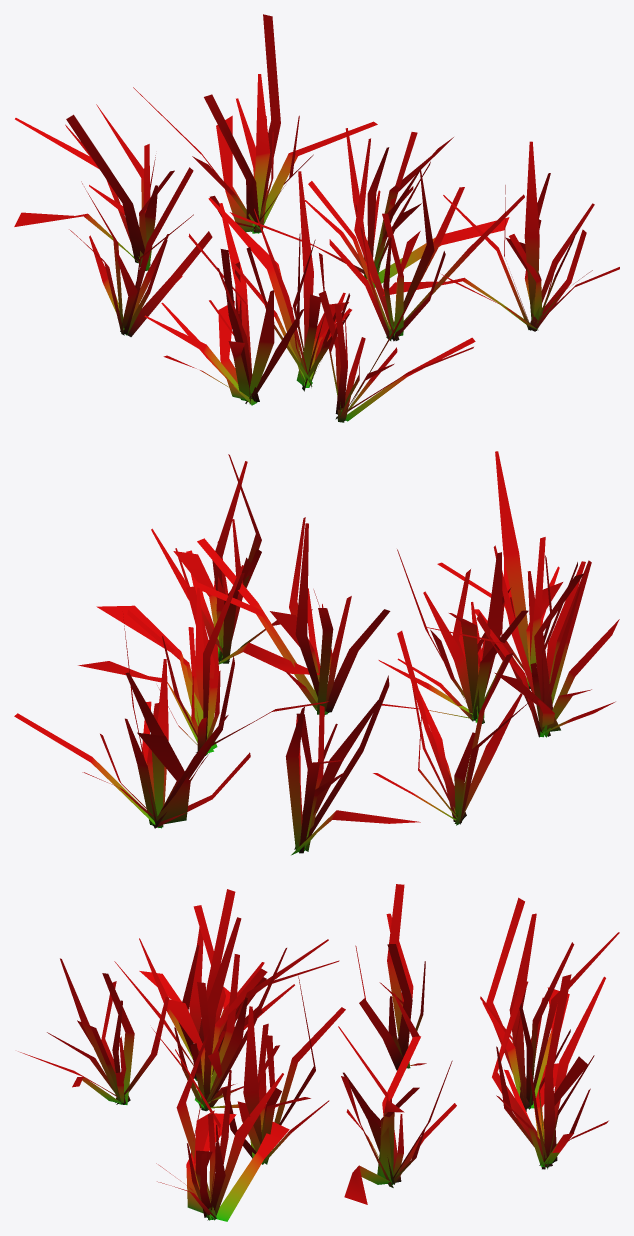
File: Grass Clumps_LOD1_Var3_qmBr2.fbx
3 renders of one model, top to bottom at view 1: azimuth 30°, elevation 25°; view 2: azimuth 150°, elevation 25°; view 3: azimuth 270°, elevation 25°, orthographic. The views are drawn at different scales.
Visible parts, largest first — view 1: _586b_Var3_LOD1; view 2: _586b_Var3_LOD1; view 3: _586b_Var3_LOD1.
Boxes of the visible parts, bbox=[...] form: _586b_Var3_LOD1: bbox=[14, 14, 619, 422]; _586b_Var3_LOD1: bbox=[14, 451, 619, 855]; _586b_Var3_LOD1: bbox=[18, 884, 619, 1221].
Size of the model in its own units: 55.5 by 24.98 by 67.08.
